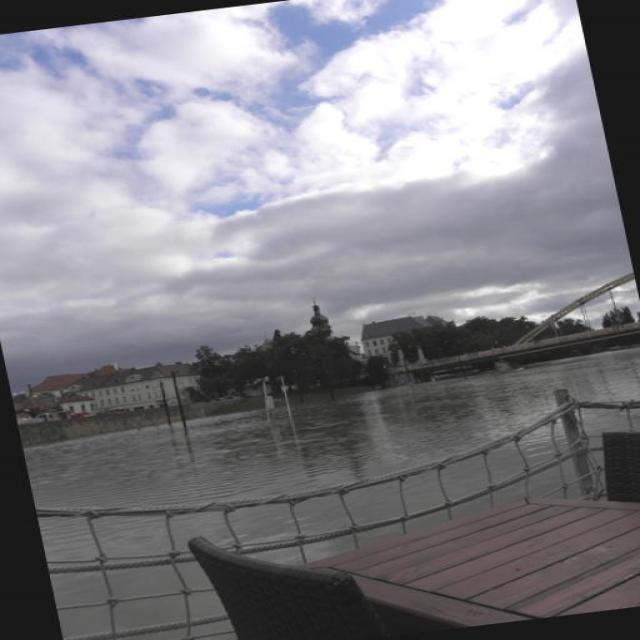flood: (18, 349, 639, 521)
